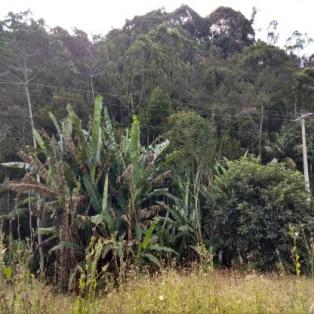Poste: (298, 110, 314, 205)
